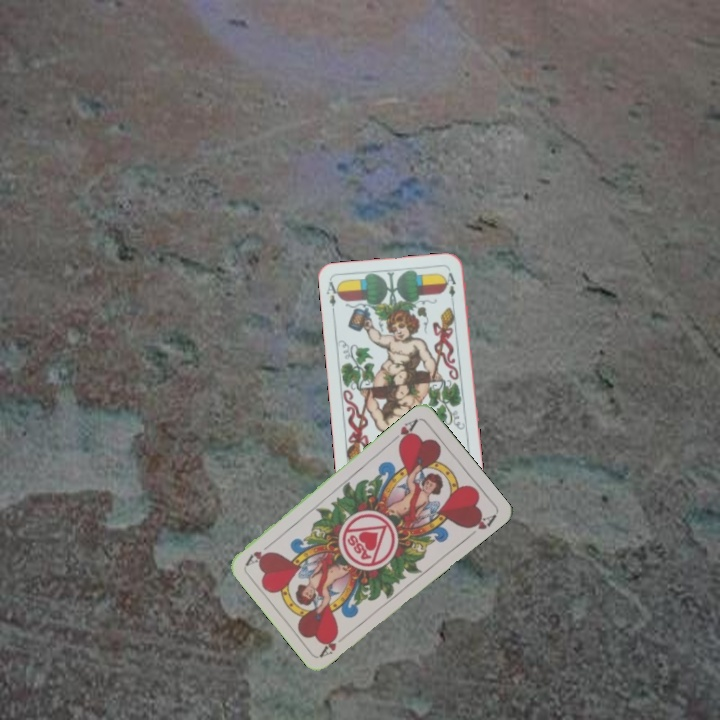EA: (322, 277, 342, 318)
HA: (387, 415, 421, 448), (316, 627, 351, 659)
